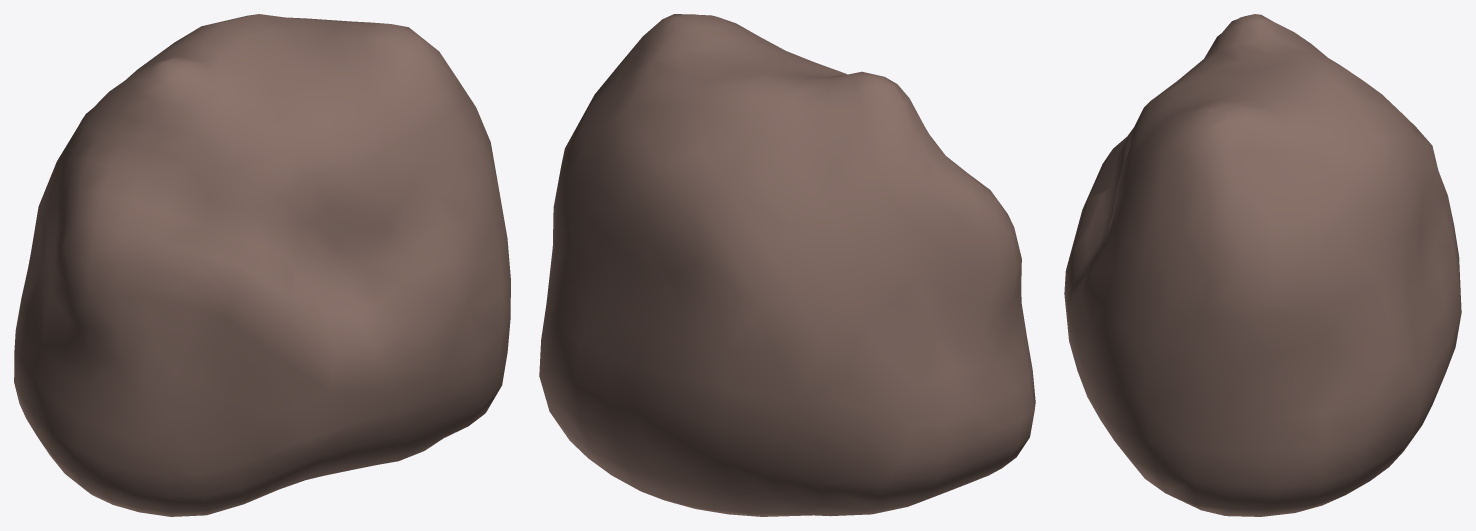
Rendered from Mineral_2_low.fbx.
3 renders of one model, left to right at view 1: azimuth 30°, elevation 25°; view 2: azimuth 150°, elevation 25°; view 3: azimuth 270°, elevation 25°, orthographic. The views are drawn at different scales.
Parts seen in each view (by area): view 1: Mineral_ghjk; view 2: Mineral_ghjk; view 3: Mineral_ghjk.
Boxes of the visible parts, left/top/right/bottom form: Mineral_ghjk: left=14, top=14, right=510, bottom=516; Mineral_ghjk: left=539, top=14, right=1035, bottom=516; Mineral_ghjk: left=1064, top=14, right=1461, bottom=516.
Bounding box in the file's own units: 13.66 × 12.38 × 11.38.
